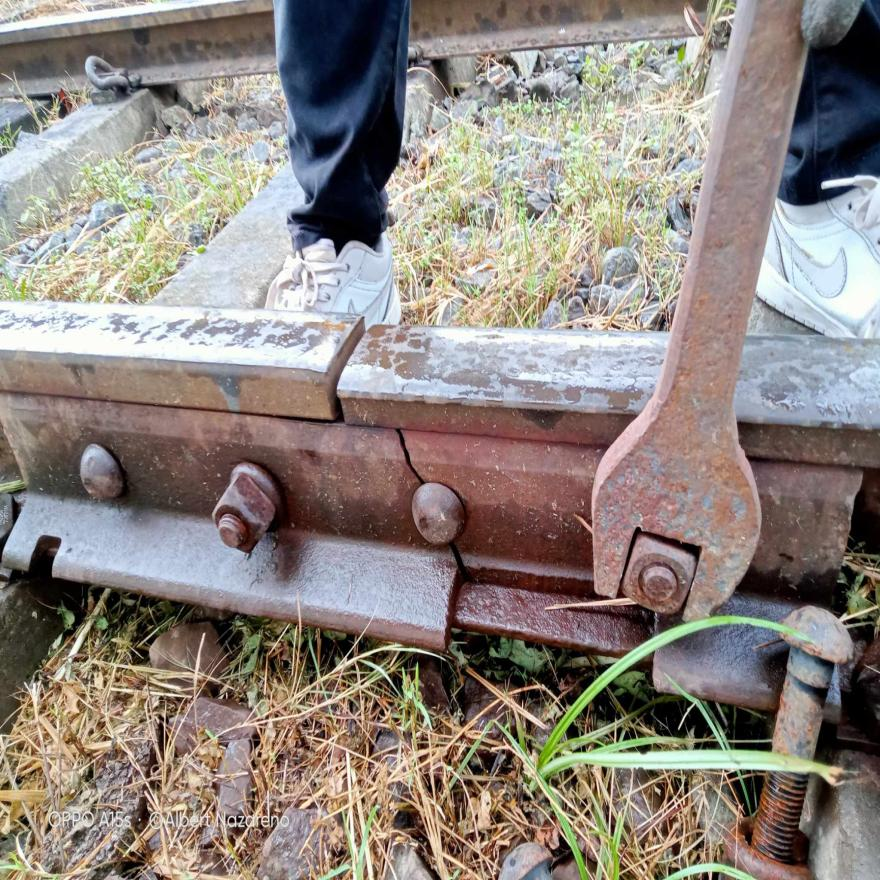railway-gap: (285, 315, 409, 443)
